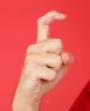anticlockwise: (17, 10, 75, 97)
